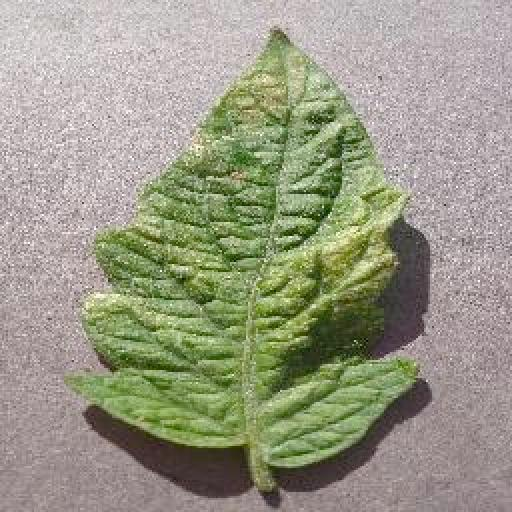disease_tomato: (71, 24, 424, 470)
